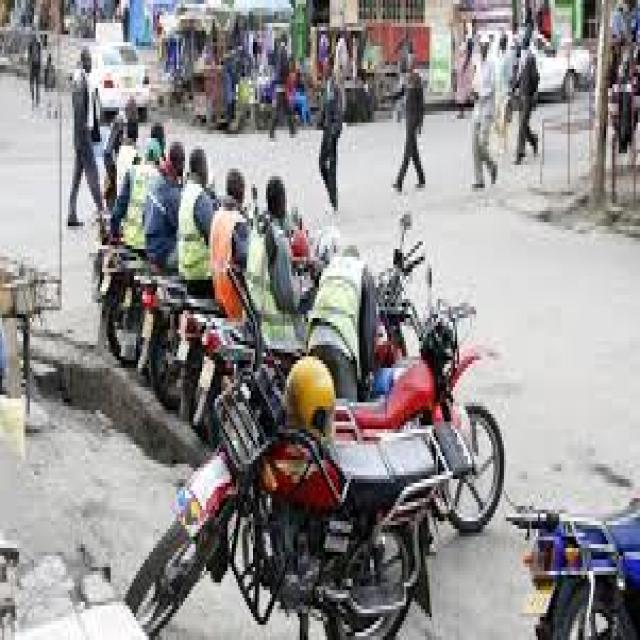bodaboda: (90, 243, 479, 640)
